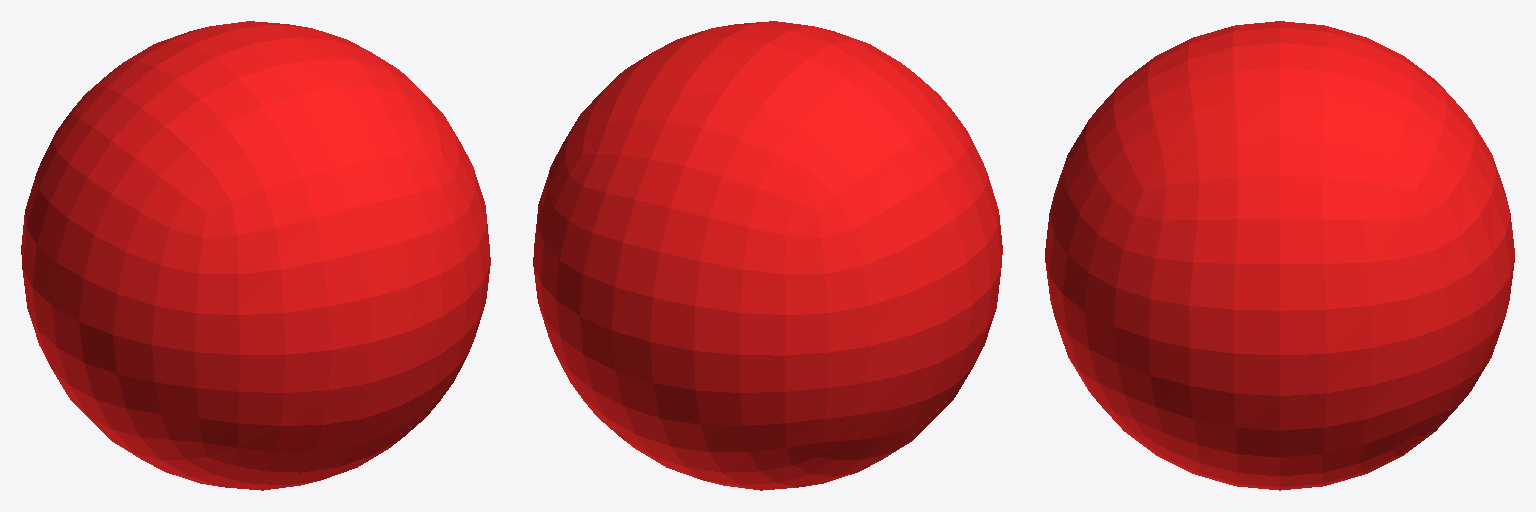
The model's file is Gizmo.obj.
The picture shows the model from 3 angles: view 1: azimuth 30°, elevation 25°; view 2: azimuth 150°, elevation 25°; view 3: azimuth 270°, elevation 25°; orthographic projection.
Visible parts, largest first — view 1: Blast; view 2: Blast; view 3: Blast.
Part boxes in pixels (left/top/right/bottom): Blast: left=21, top=21, right=490, bottom=490; Blast: left=533, top=21, right=1002, bottom=490; Blast: left=1045, top=21, right=1514, bottom=490.
Bounding box in the file's own units: 1 × 1 × 1.